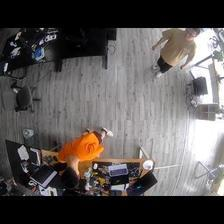normal: (59, 128, 113, 187), (149, 28, 201, 77)
